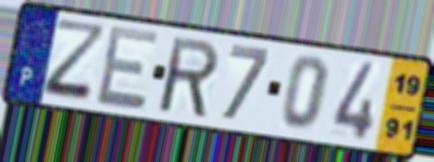0: (280, 53, 332, 134)
4: (331, 60, 377, 143)
7: (218, 42, 274, 125)
E: (94, 22, 162, 112)
R: (158, 34, 222, 122)
Z: (39, 16, 110, 106)
